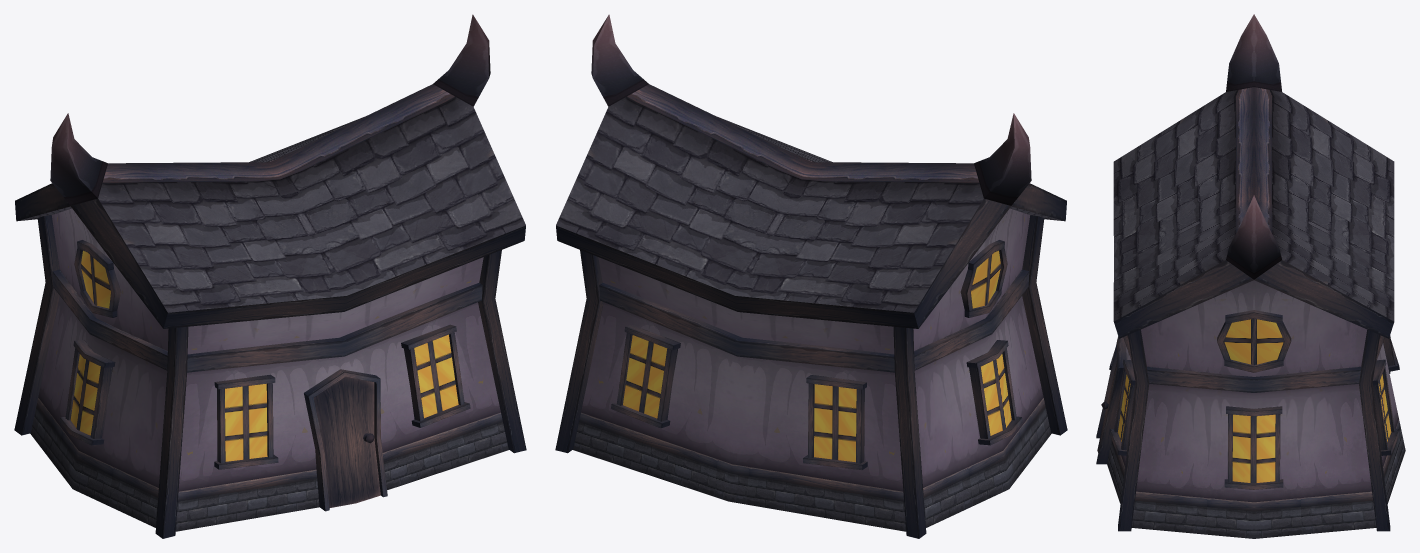
The model's file is House_A.fbx.
3 views of the same model, side by side, from view 1: azimuth 30°, elevation 25°; view 2: azimuth 150°, elevation 25°; view 3: azimuth 270°, elevation 25° (orthographic). The views are drawn at different scales.
Visible parts, largest first — view 1: House_A; view 2: House_A; view 3: House_A.
Boxes of the visible parts, x1=… form: House_A: x1=14, y1=14, x2=526, y2=538; House_A: x1=555, y1=14, x2=1067, y2=538; House_A: x1=1096, y1=14, x2=1405, y2=538.
Size of the model in its own units: 246 by 202 by 163.
Materials: 1 (1 with a texture image).
